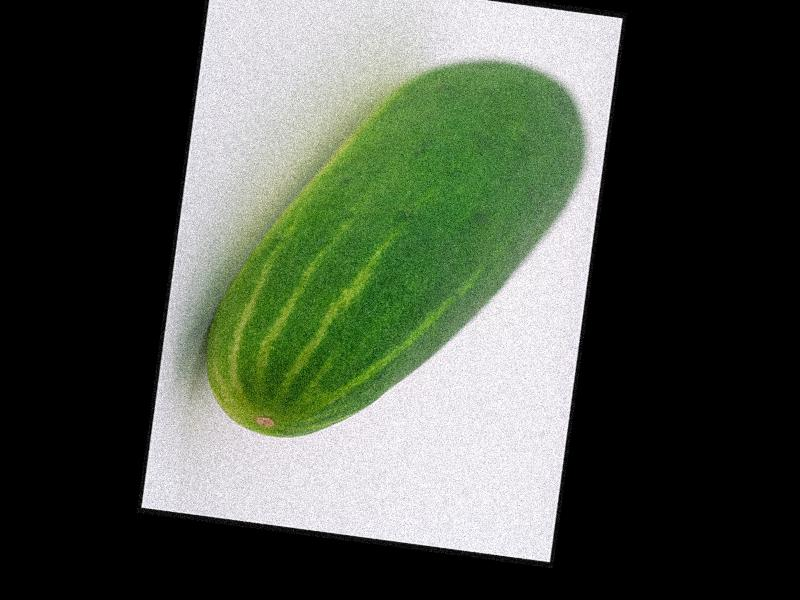Cucumber: (196, 27, 595, 471)
